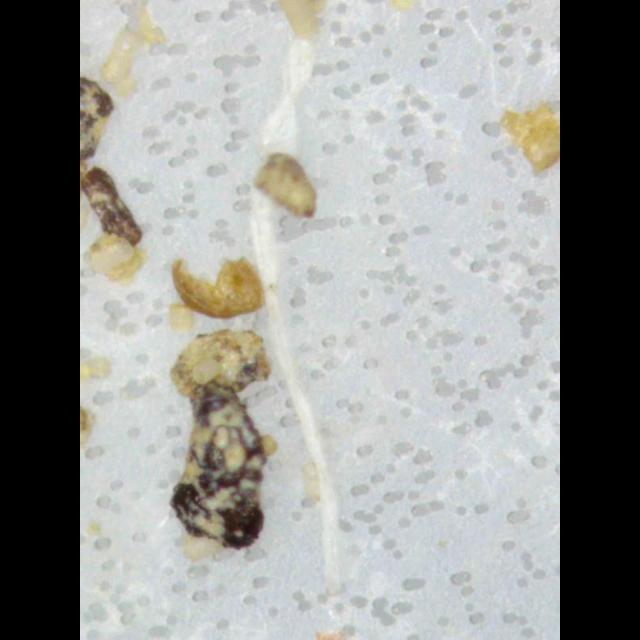Fibre: (247, 31, 357, 596), (168, 328, 274, 552)
